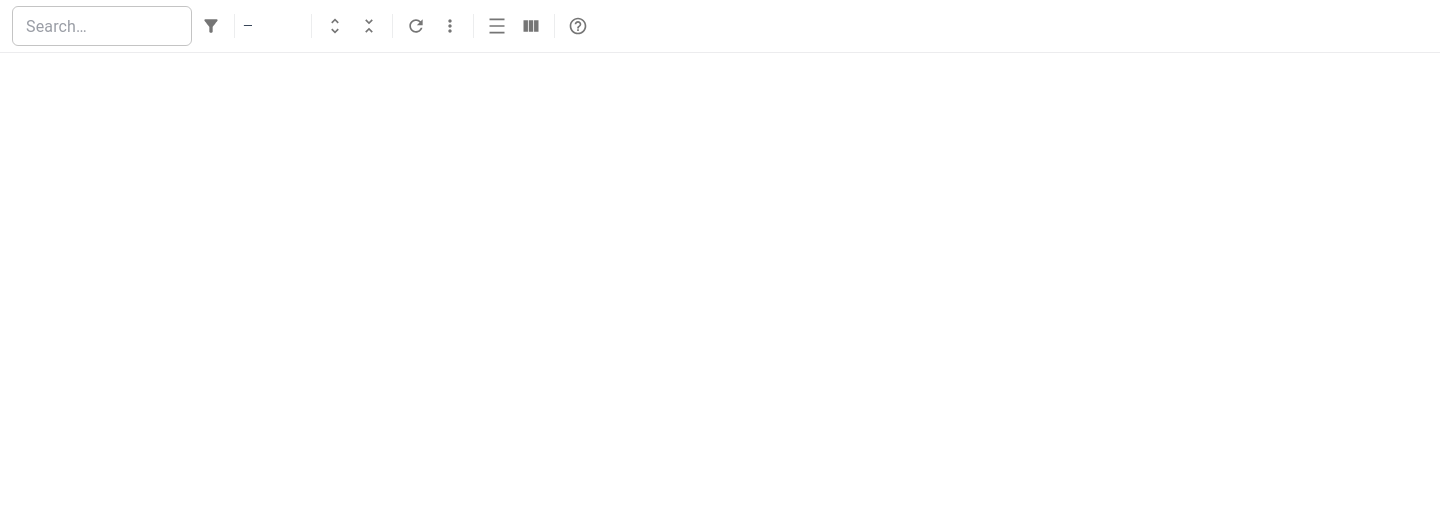
Test case: HierarchyToolbar — Columns menu (dynamic query columns) › lists the query's own custom columns under a "Query columns" section, excluding the effort field
Click the button named "columns" at (531, 26), box [516, 11, 546, 41]
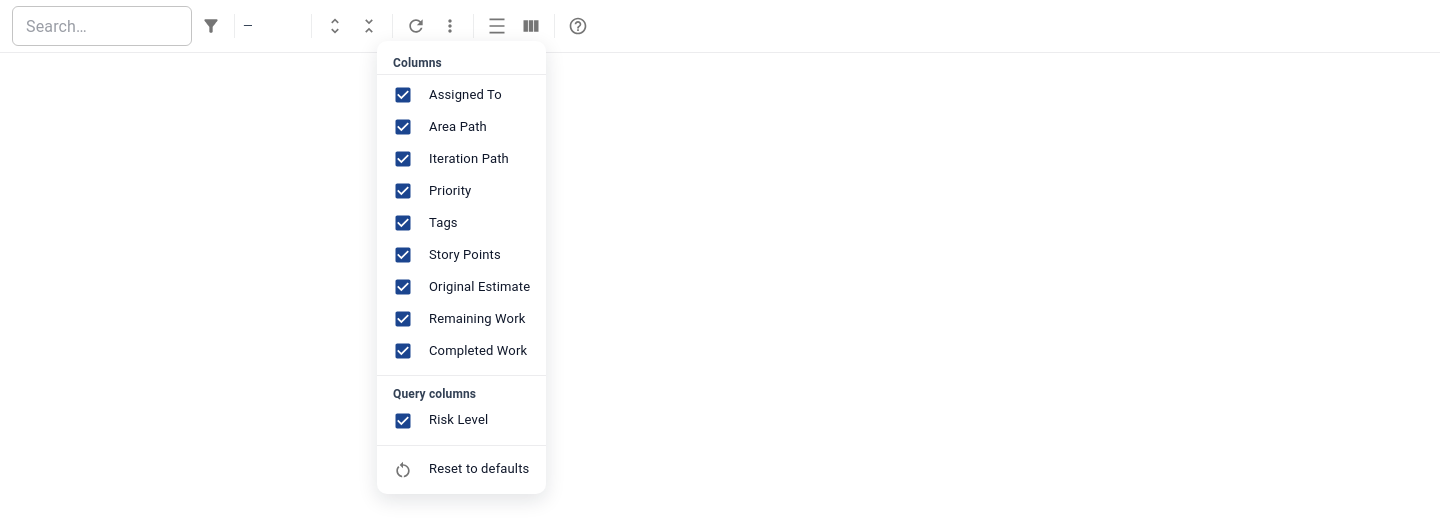
Expected: the text "Query columns" is shown, [393, 387, 476, 401]
Expected: the menu item "Risk Level" is shown, [393, 411, 488, 431]
